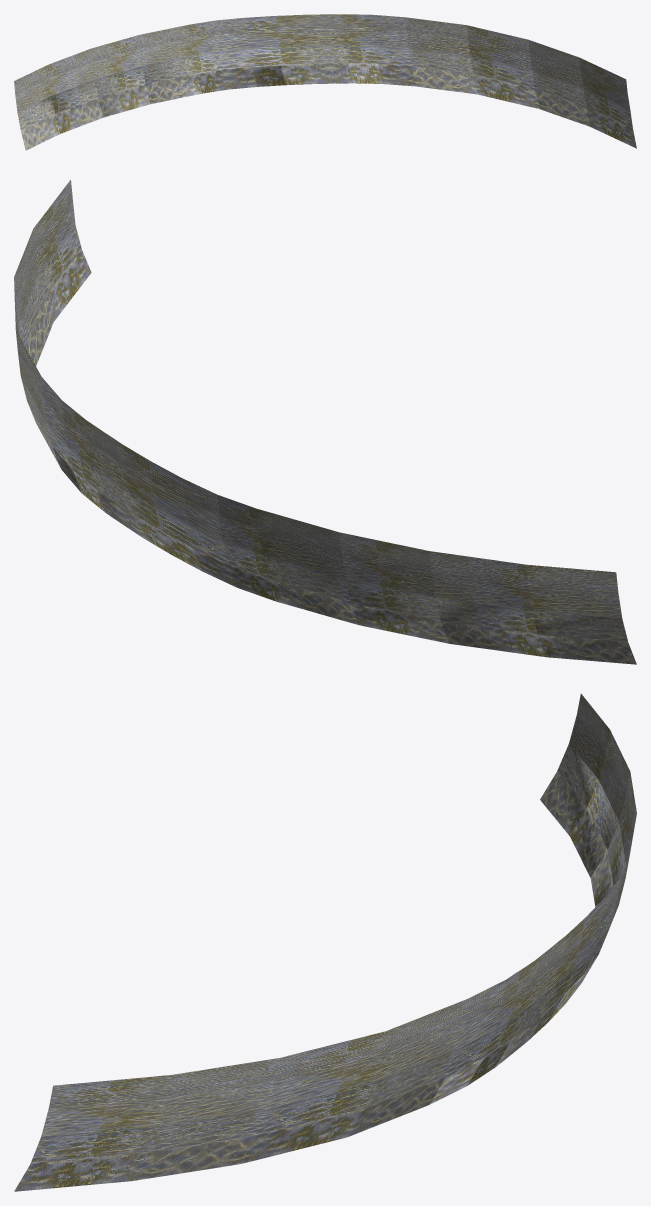
Rendered from sky_model03b.FBX.
The picture shows the model from 3 angles, top to bottom: view 1: azimuth 30°, elevation 25°; view 2: azimuth 150°, elevation 25°; view 3: azimuth 270°, elevation 25°; orthographic projection. The views are drawn at different scales.
Parts seen in each view (by area): view 1: sky_model03; view 2: sky_model03; view 3: sky_model03.
Part boxes in pixels (x1,y1,x2,y2): sky_model03: (14, 14, 636, 150); sky_model03: (14, 180, 636, 664); sky_model03: (14, 693, 636, 1191).
Bounding box in the file's own units: 7432 × 939 × 4977.
1 material, 1 textured.
